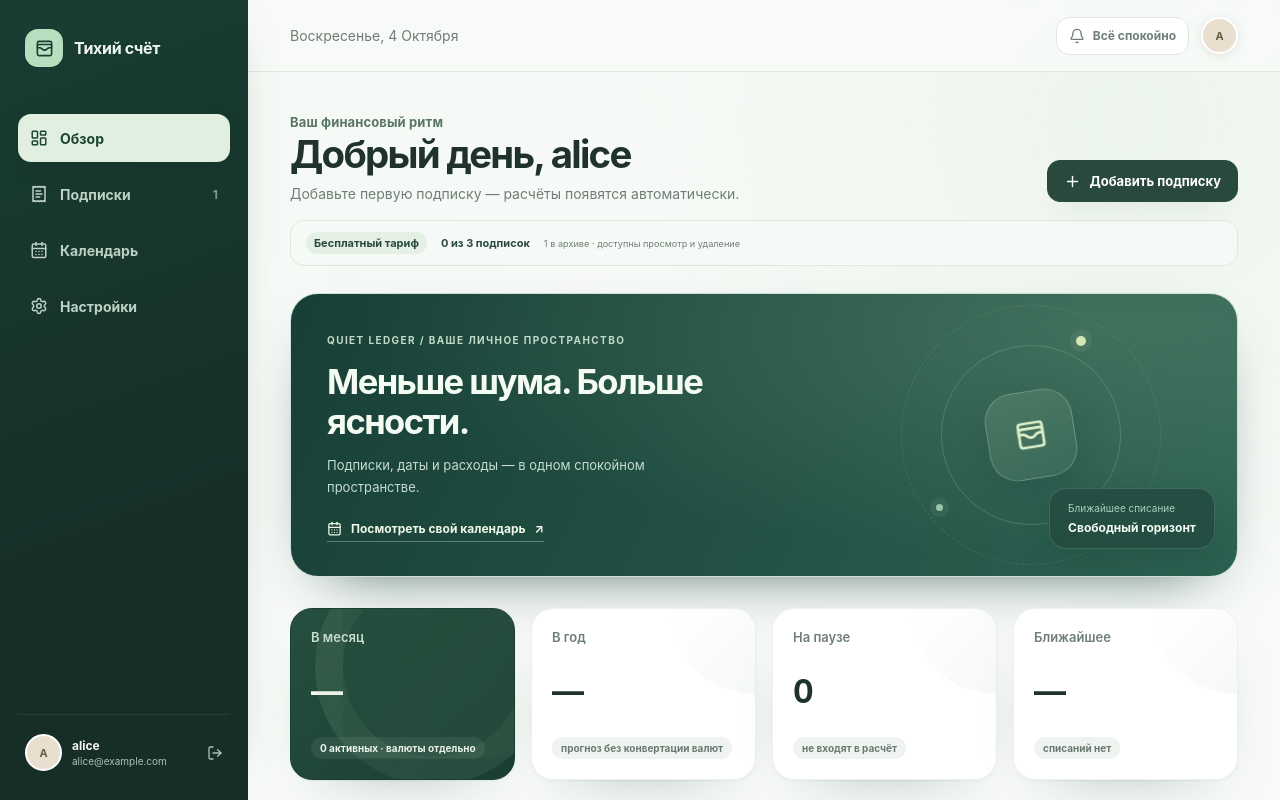
Test case: filtered subscriptions explain missing matches and reset every filter
This screenshot has width=1280, height=800.
Click the button "Подписки 1" at (124, 194), box [18, 170, 230, 218]
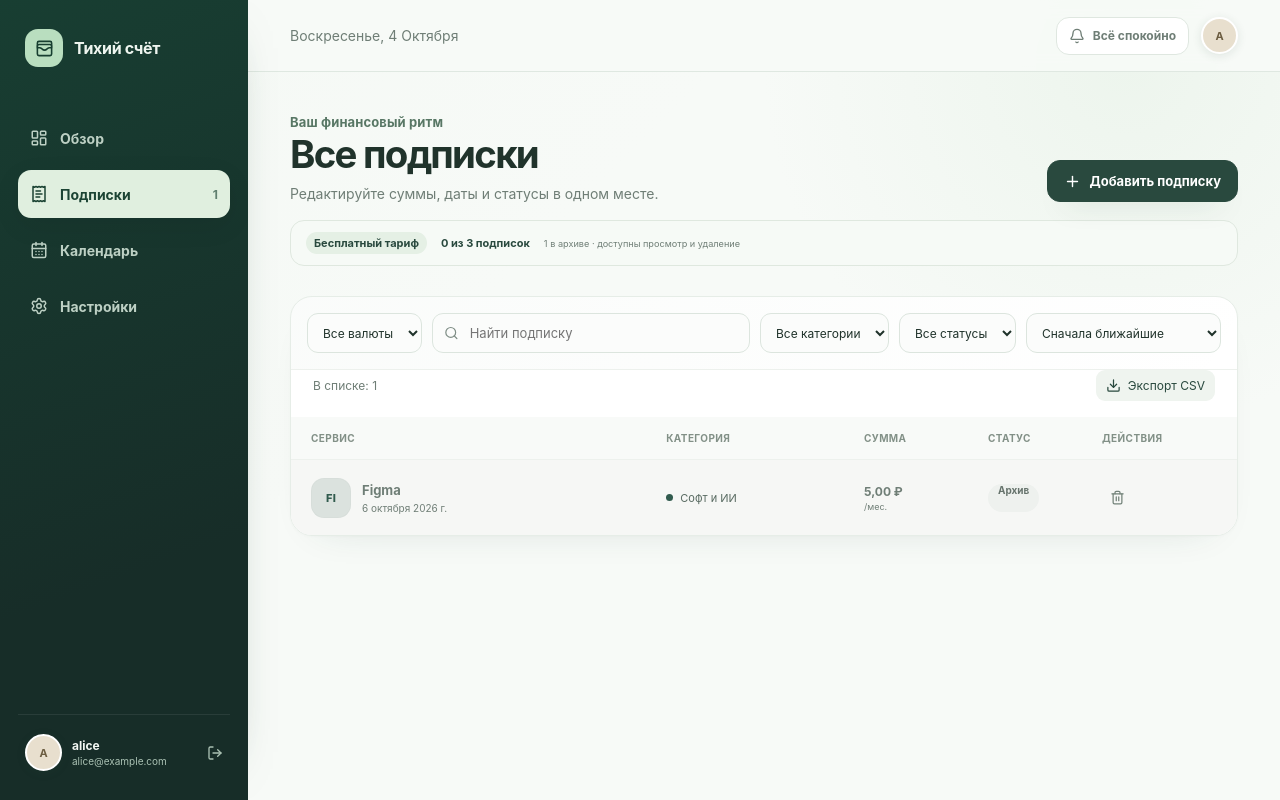
Type "missing" into the field labelled "Найти подписку" at (603, 334), box [468, 324, 738, 342]
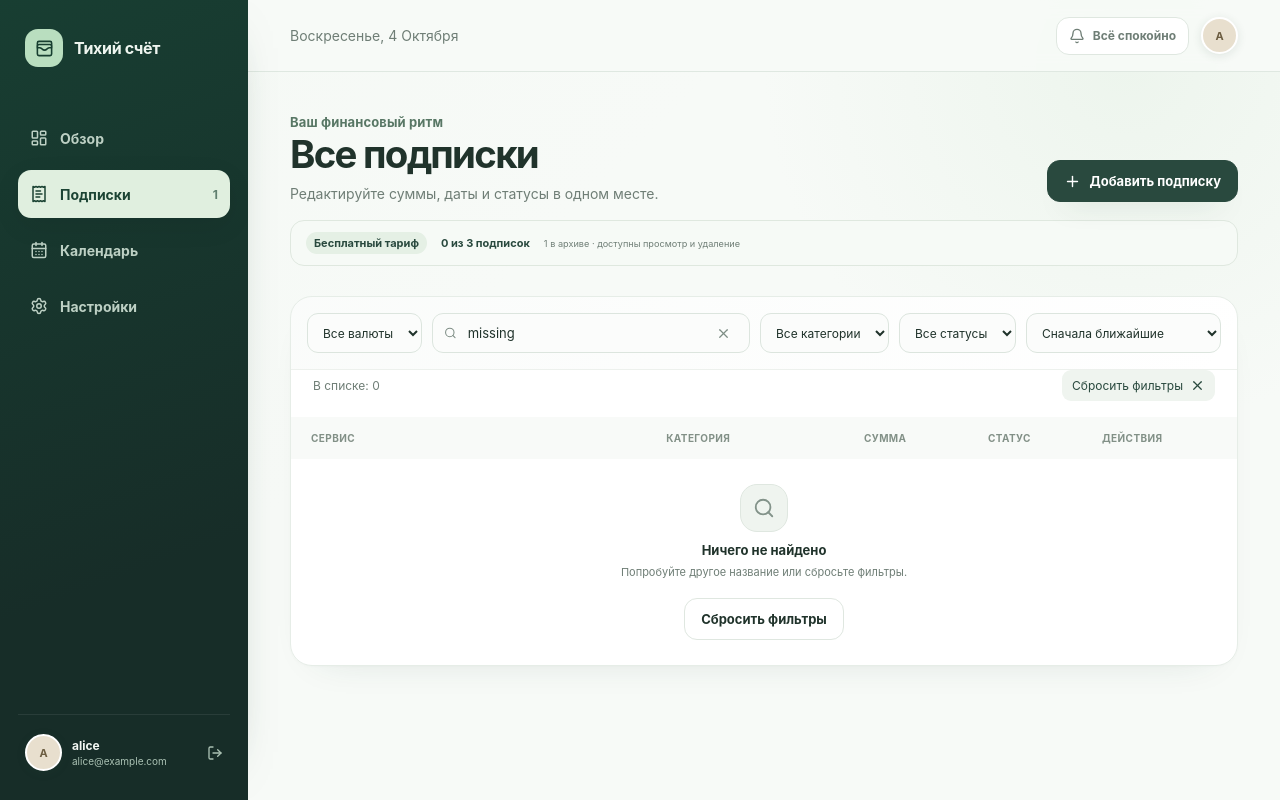
Select "На паузе" in the dropdown named "Статус" at (958, 334), box [899, 314, 1016, 354]
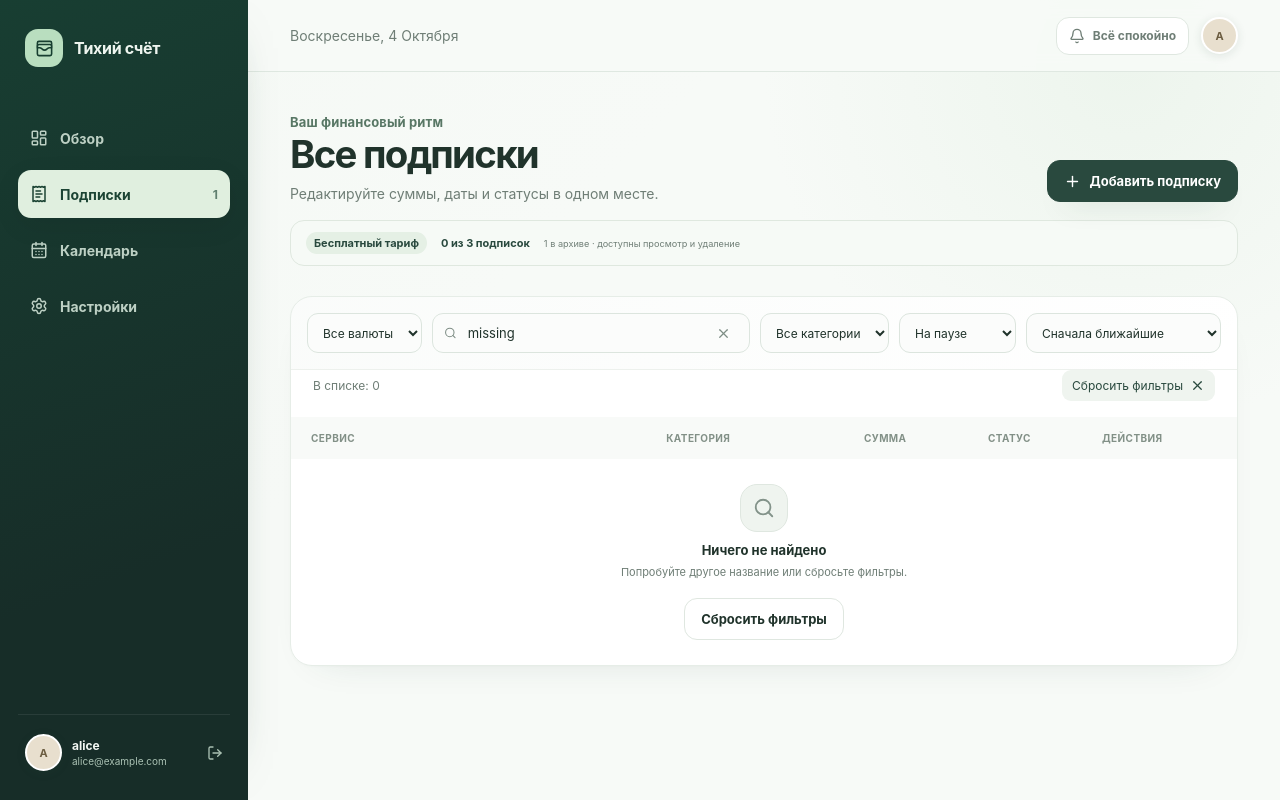
Check: the text "Ничего не найдено" is shown, box [702, 542, 826, 558]
Click the button "Сбросить фильтры" in the row of "В списке: 0" at (1139, 386), box [1062, 370, 1215, 402]
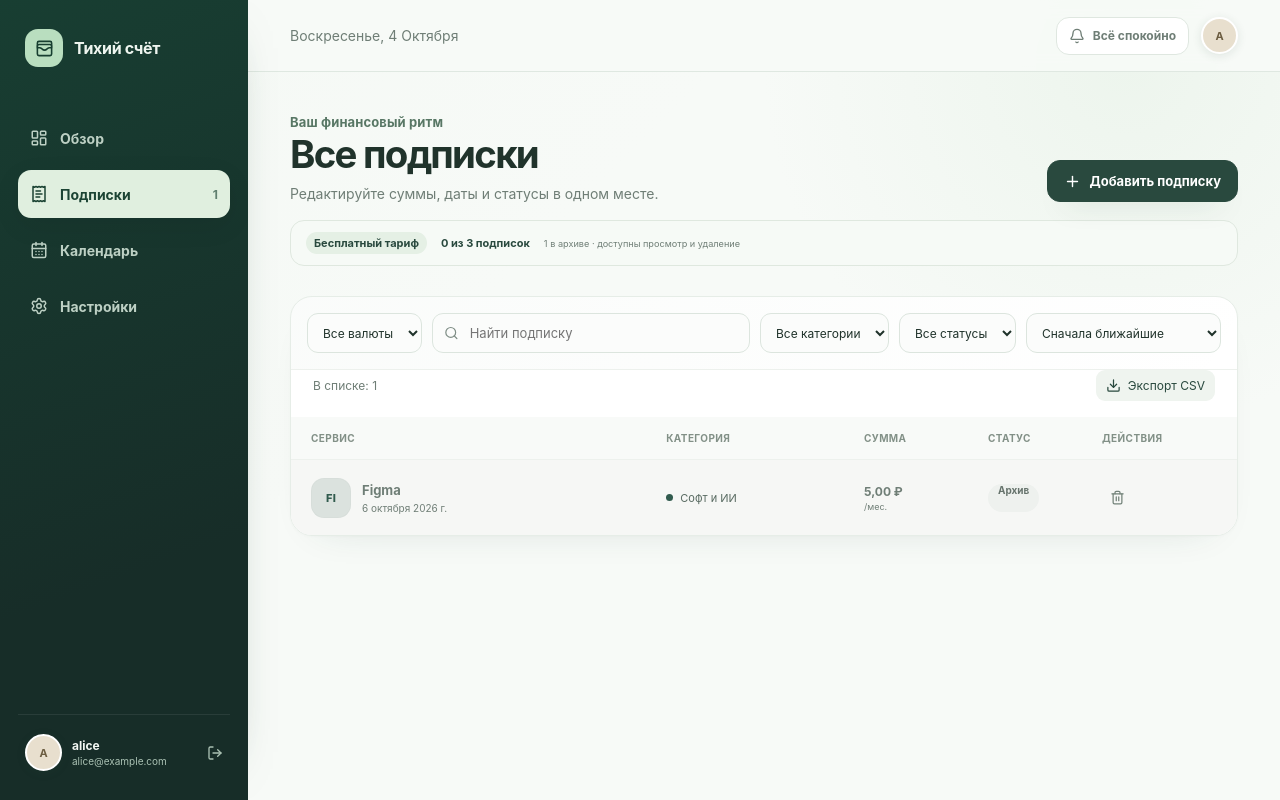
Check: the field labelled "Найти подписку" is empty
Check: the text "Figma" is shown, box [362, 482, 401, 498]
Type "Fi" into the field labelled "Найти подписку" at (603, 334), box [468, 324, 738, 342]
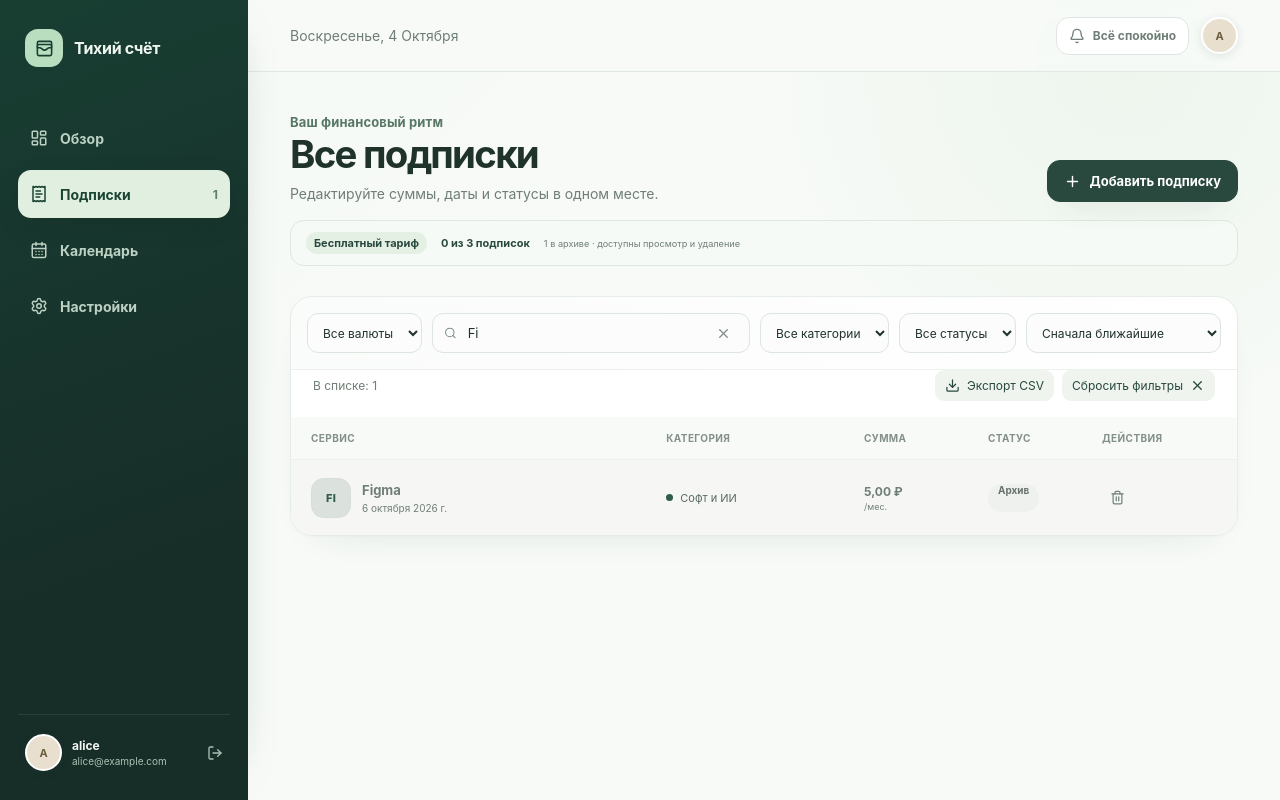
Click the button named "Очистить поиск" at (723, 334), box [708, 318, 738, 348]
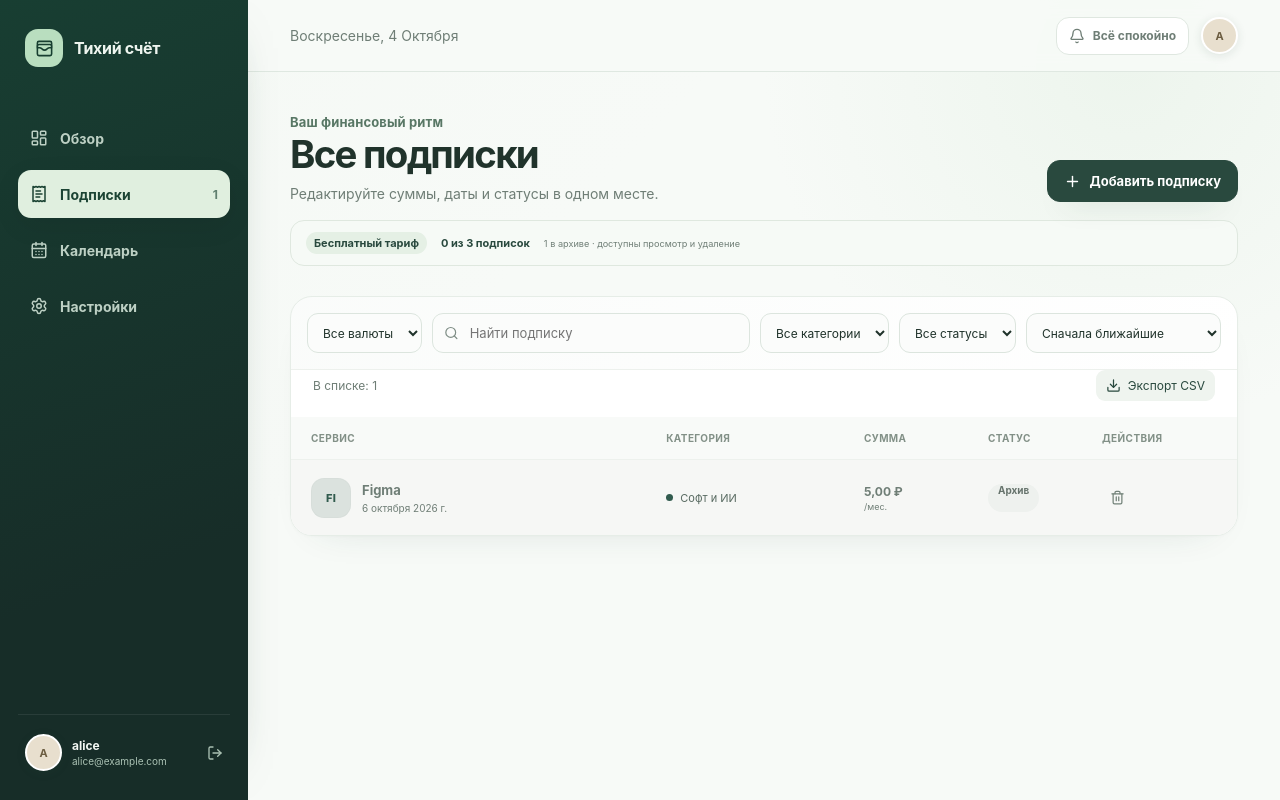
Check: the field labelled "Найти подписку" is empty, box [468, 324, 738, 342]
